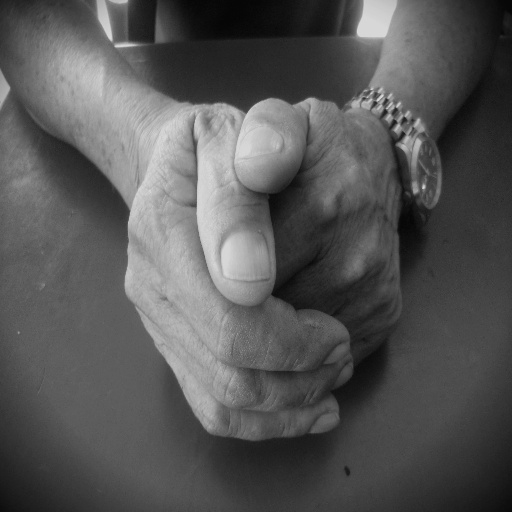hand: (121, 99, 355, 441), (233, 95, 404, 369)
